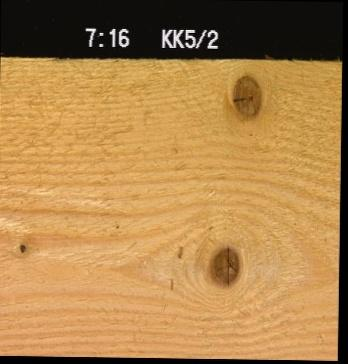dry_knot: (15, 238, 27, 254)
sound_knot: (229, 73, 260, 118), (207, 245, 242, 284)
